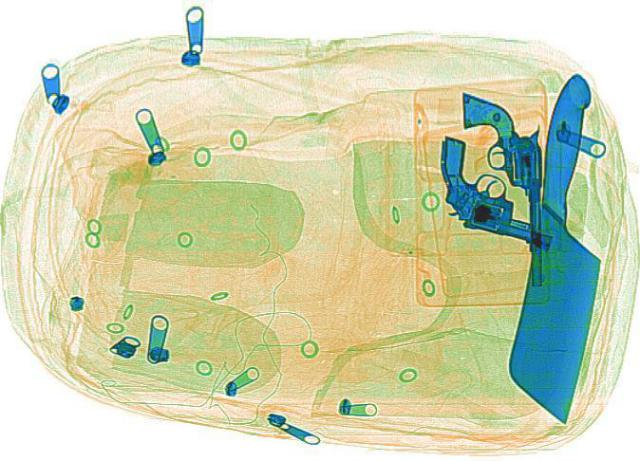Gun: (398, 133, 592, 248), (460, 89, 546, 286)
Knife: (500, 70, 622, 423)
